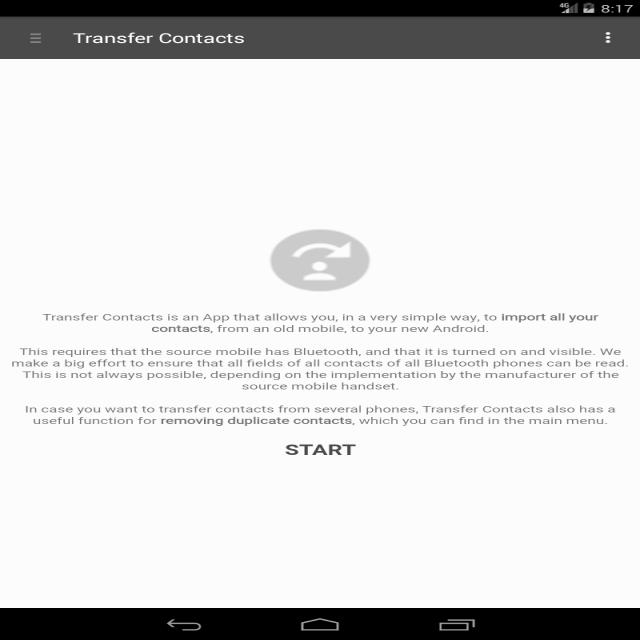ImageButton: (592, 28, 626, 52), (18, 32, 52, 48)
ImageView: (254, 227, 387, 293)
TextView: (14, 345, 633, 392), (31, 306, 609, 336), (16, 400, 629, 428), (68, 27, 258, 51), (268, 436, 374, 461)
